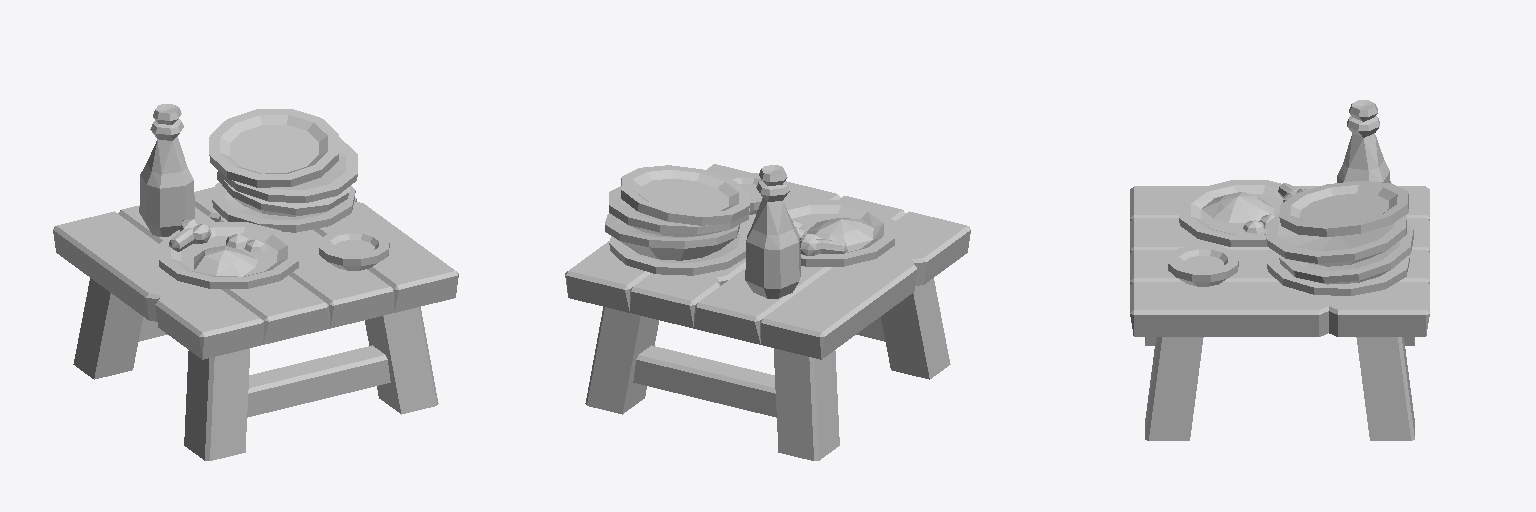
The model's file is table_medium_decorated_A.obj.
3 renders of one model, left to right at view 1: azimuth 30°, elevation 25°; view 2: azimuth 150°, elevation 25°; view 3: azimuth 270°, elevation 25°, orthographic.
Visible parts, largest first — view 1: table_medium_decorated_A; view 2: table_medium_decorated_A; view 3: table_medium_decorated_A.
Boxes of the visible parts, x1=… form: table_medium_decorated_A: x1=53, y1=104, x2=458, y2=460; table_medium_decorated_A: x1=565, y1=164, x2=970, y2=460; table_medium_decorated_A: x1=1130, y1=100, x2=1429, y2=440.
Bounding box in the file's own units: 2 × 1.89 × 2.